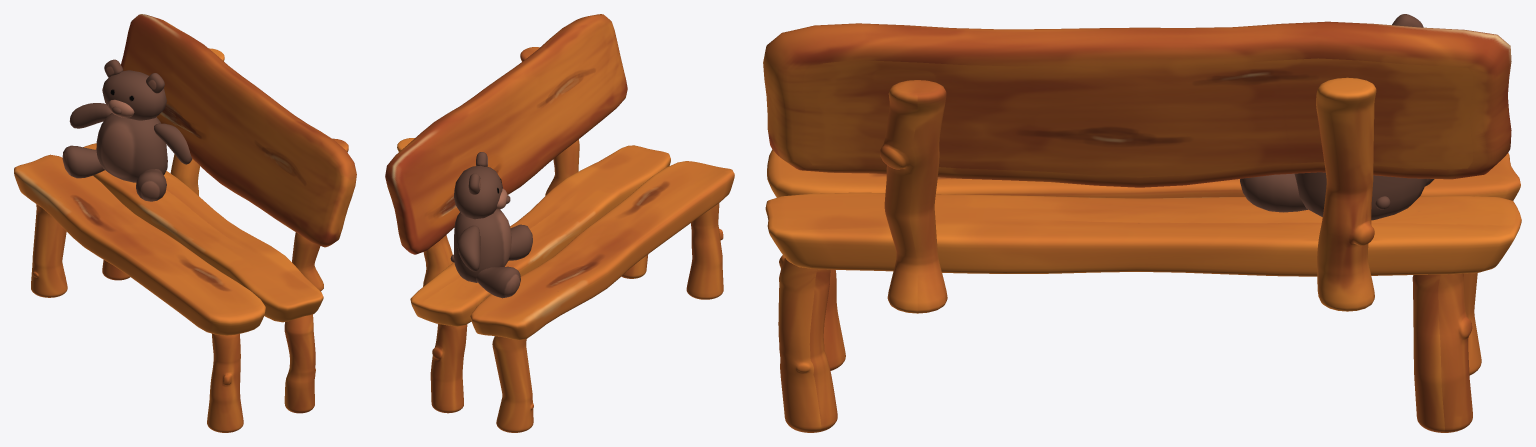
File: benchwithbear.fbx
The picture shows the model from 3 angles, left to right: view 1: azimuth 30°, elevation 25°; view 2: azimuth 150°, elevation 25°; view 3: azimuth 270°, elevation 25°; orthographic projection. The views are drawn at different scales.
Visible parts, largest first — view 1: Pole.011, Cube.004; view 2: Pole.011, Cube.004; view 3: Pole.011, Cube.004.
Part boxes in pixels (x1=…): Pole.011: x1=14, y1=14, x2=356, y2=432; Cube.004: x1=62, y1=59, x2=192, y2=201; Pole.011: x1=385, y1=14, x2=734, y2=432; Cube.004: x1=450, y1=152, x2=532, y2=298; Pole.011: x1=763, y1=21, x2=1521, y2=432; Cube.004: x1=1240, y1=14, x2=1434, y2=220.
Size of the model in its own units: 92.9 by 127 by 200.
